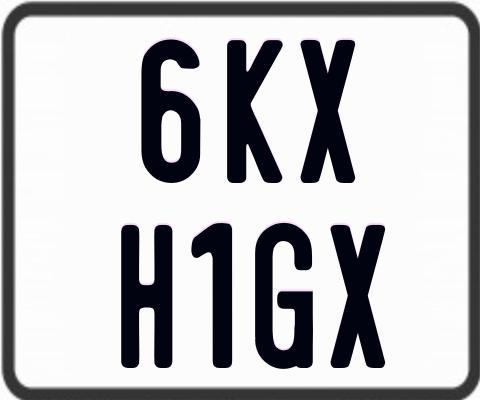1: (188, 220, 234, 370)
6: (138, 37, 199, 184)
G: (254, 223, 314, 369)
H: (119, 223, 176, 368)
K: (225, 40, 283, 189)
X: (329, 222, 388, 366), (301, 37, 356, 184)
